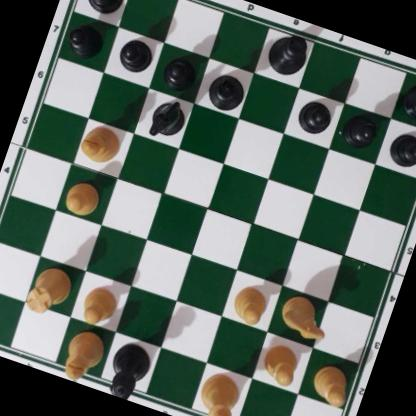black-bishop: (201, 69, 250, 117)
black-king: (261, 27, 314, 81)
black-knight: (144, 92, 191, 144)
black-pawn: (339, 109, 382, 152), (114, 33, 156, 76), (294, 93, 336, 136), (64, 18, 107, 59), (159, 51, 200, 94), (385, 126, 416, 172)
black-queen: (102, 338, 157, 404)
black-rook: (73, 0, 132, 18), (400, 77, 416, 128)
white-bishop: (59, 324, 110, 385), (76, 121, 125, 169)
white-king: (189, 368, 249, 416)
white-knight: (274, 287, 337, 344)
white-pawn: (256, 338, 306, 388), (227, 280, 273, 330), (76, 281, 122, 330), (307, 360, 354, 407), (60, 177, 105, 221)
white-rook: (21, 260, 76, 322)
